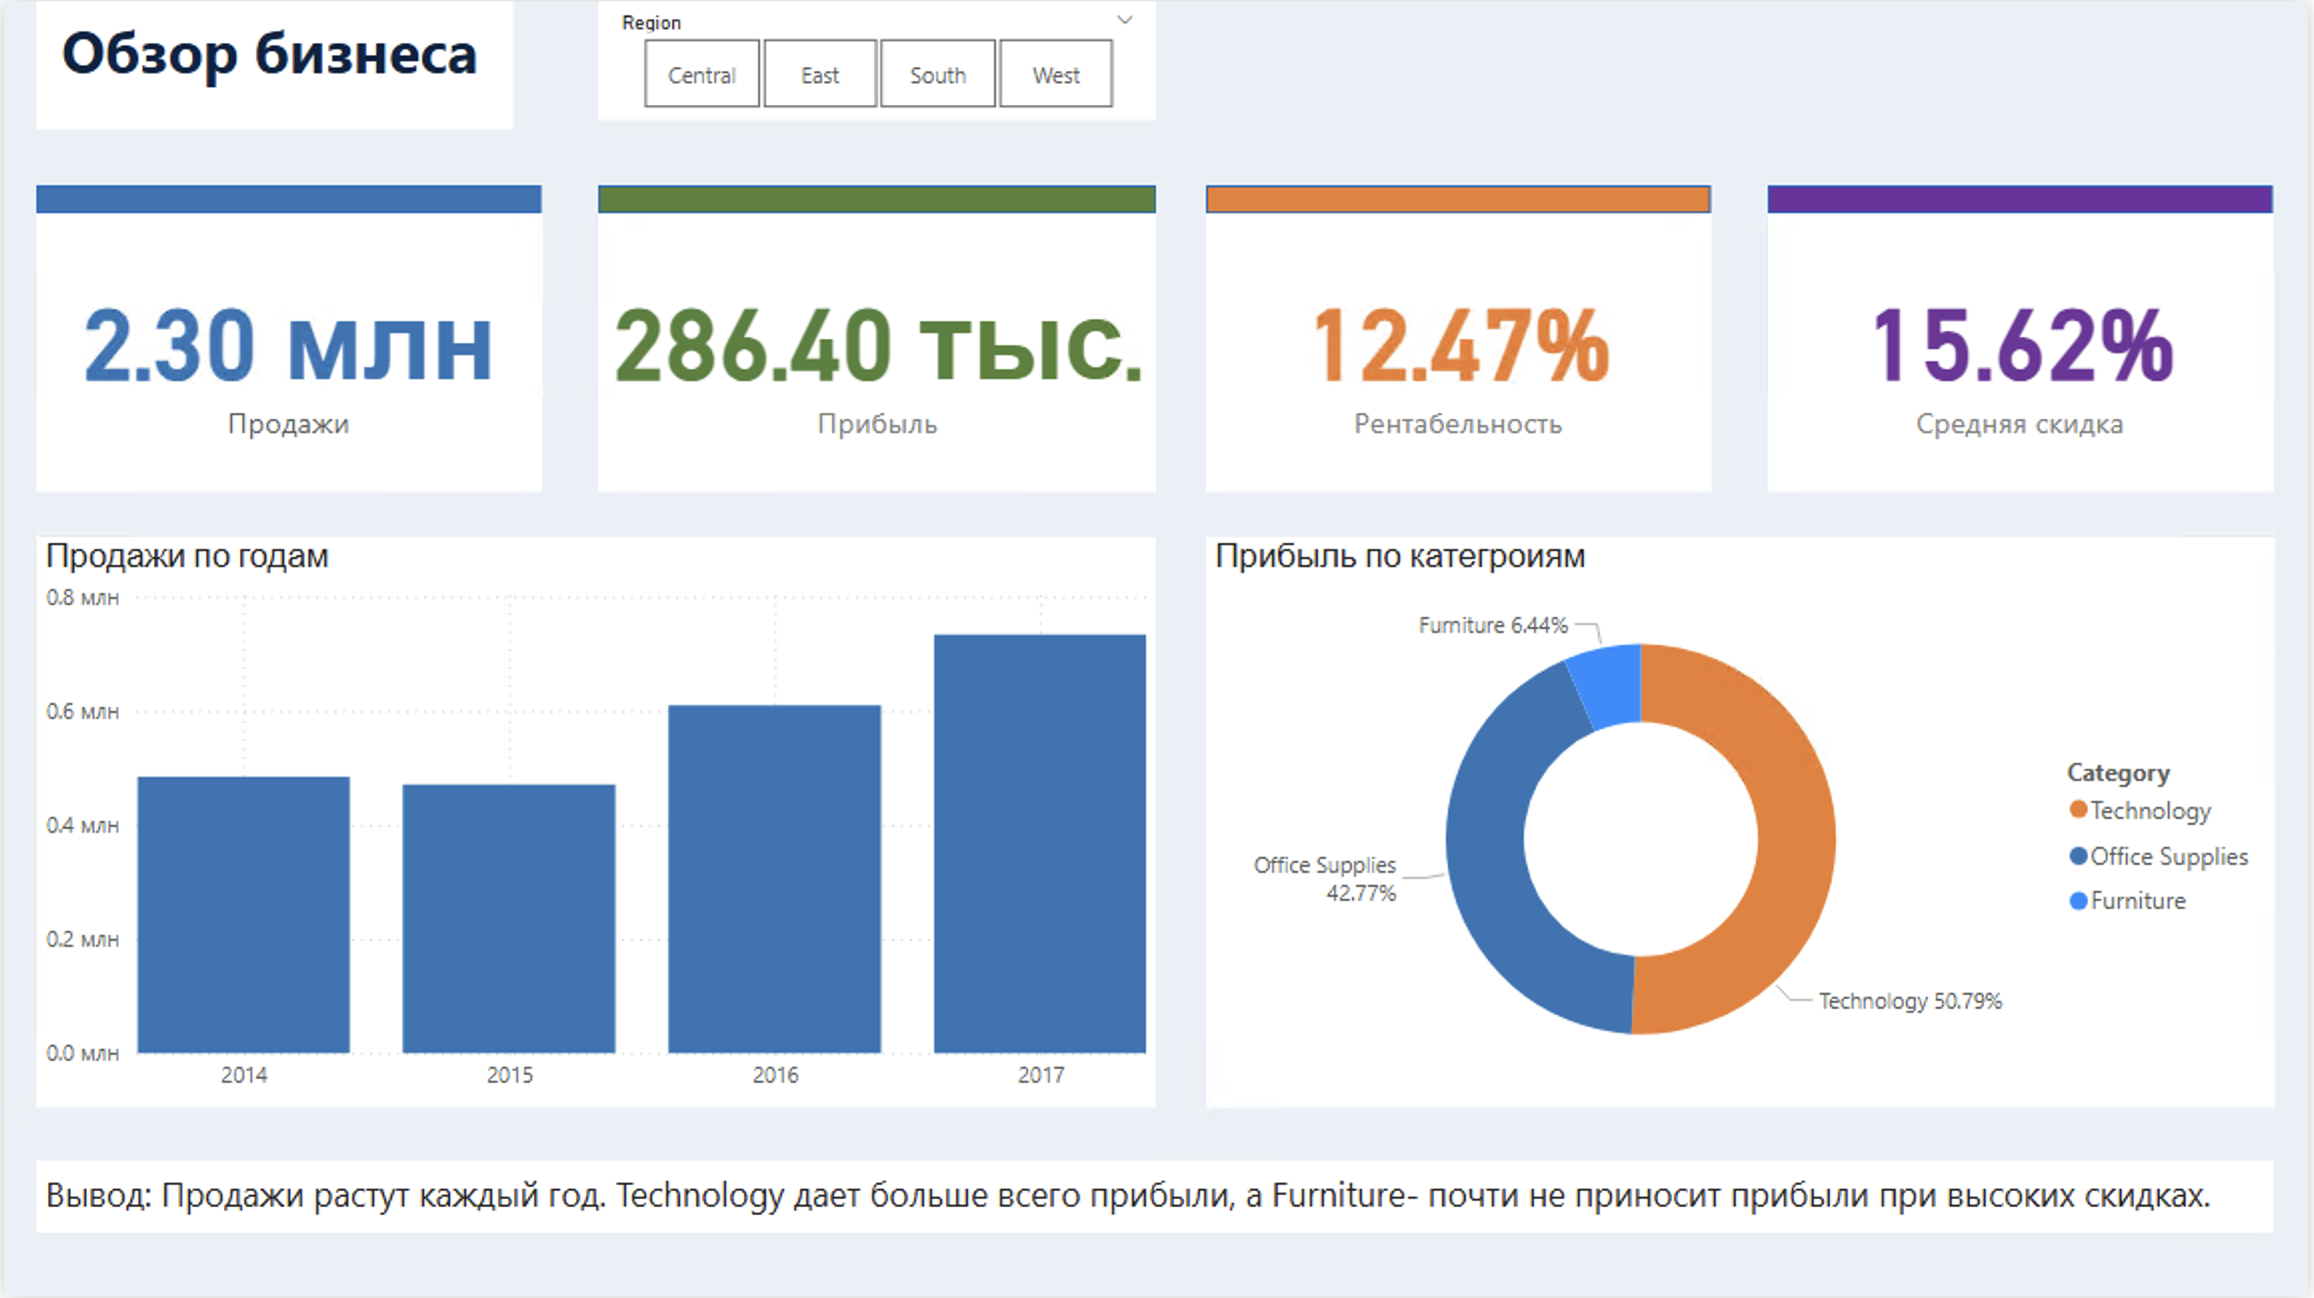

This screenshot's page, from the dashboard's own definition file:
{"tool":"powerbi","page":{"name":"Обзор и KPI","canvas":[1280,720],"ordinal":1},"visuals":[{"type":"card","fields":{"Values":["Sum(Orders.Sales)"]},"box":[18.2,118.2,280.5,154.5],"z":0},{"type":"card","fields":{"Values":["Sum(Orders.Profit)"]},"box":[329.9,118.2,310.4,154.5],"z":1},{"type":"card","fields":{"Values":["Orders.Profit Ratio"]},"box":[667.5,118.2,280.5,154.5],"z":2},{"type":"card","fields":{"Values":["Orders.Cредняя скидка"]},"box":[980.5,118.2,280.5,154.5],"z":3},{"type":"clusteredColumnChart","title":"Продажи по годам","fields":{"Y":["Sum(Orders.Sales)"],"Category":["Orders.Order Date.Изменение.Иерархия дат.Год"]},"box":[18.2,297.4,622.1,316.9],"z":4},{"type":"donutChart","title":"Прибыль по категроиям","fields":{"Category":["Orders.Category"],"Y":["Sum(Orders.Profit)"]},"box":[667.5,297.4,593.5,316.9],"z":5},{"type":"textbox","box":[18.2,0,264.9,71.4],"z":7},{"type":"textbox","box":[18.2,644.2,1242.9,40.3],"z":8},{"type":"shape","box":[18.2,102.6,280.5,15.6],"z":9},{"type":"shape","box":[329.9,102.6,310.4,15.6],"z":10},{"type":"shape","box":[667.5,102.6,280.5,15.6],"z":11},{"type":"shape","box":[980.5,102.6,280.5,15.6],"z":12},{"type":"slicer","fields":{"Values":["Orders.Region"]},"box":[329.9,0,310.4,66.2],"z":13}]}

Visuals, with their boxes in screenshot pixels (x1, y1, x2, y2), scaled from the page's 1280x720 canvas onto the 2314x1298 screenshot:
card - Sum(Orders.Sales): detection(33, 213, 540, 492)
card - Sum(Orders.Profit): detection(596, 213, 1158, 492)
card - Orders.Profit Ratio: detection(1207, 213, 1714, 492)
card - Orders.Cредняя скидка: detection(1773, 213, 2280, 492)
"Продажи по годам" clusteredColumnChart: detection(33, 536, 1158, 1107)
"Прибыль по категроиям" donutChart: detection(1207, 536, 2280, 1107)
textbox: detection(33, 0, 512, 129)
textbox: detection(33, 1161, 2280, 1234)
shape: detection(33, 185, 540, 213)
shape: detection(596, 185, 1158, 213)
shape: detection(1207, 185, 1714, 213)
shape: detection(1773, 185, 2280, 213)
slicer - Orders.Region: detection(596, 0, 1158, 119)
